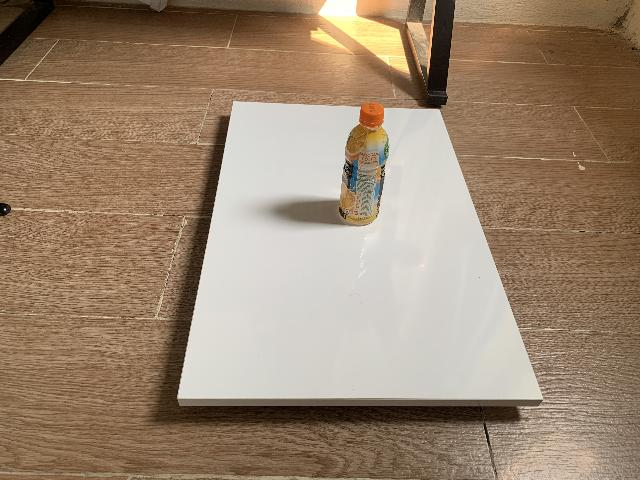teppy_orange_juice: (338, 102, 389, 226)
